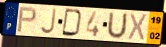4: (85, 10, 100, 39)
D: (61, 8, 84, 38)
J: (39, 8, 58, 36)
P: (16, 6, 38, 34)
U: (105, 11, 129, 41)
X: (127, 13, 149, 43)
